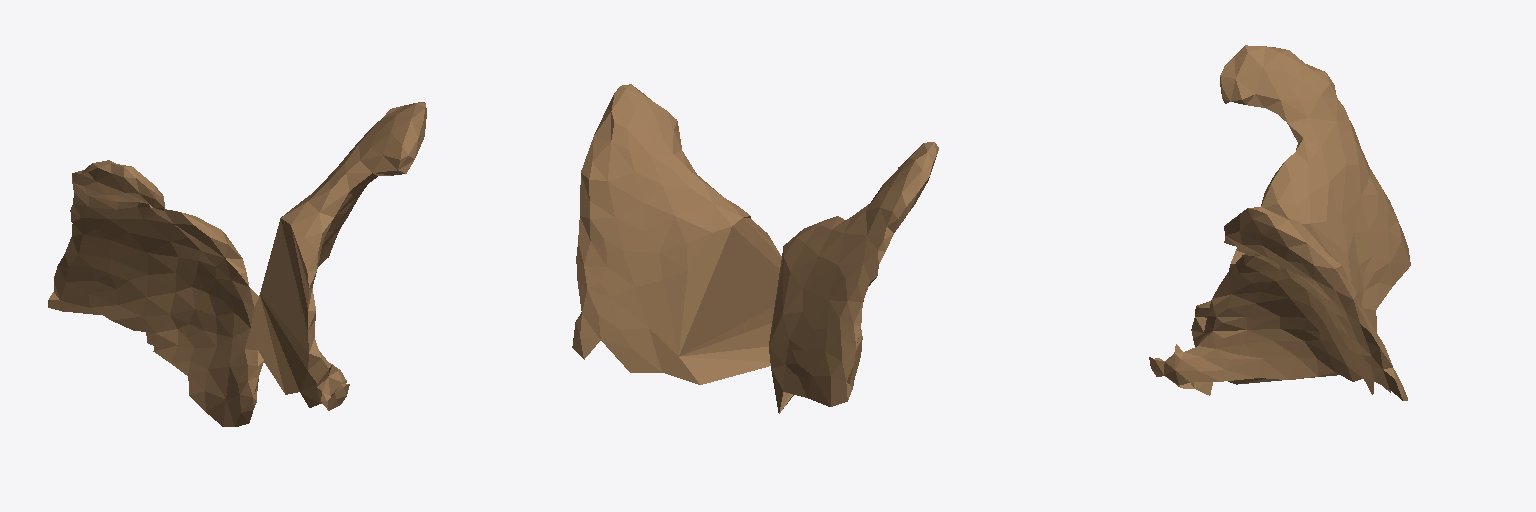
Rendered from lateral_ventricles_FH.obj.
3 views of the same model, side by side, from view 1: azimuth 30°, elevation 25°; view 2: azimuth 150°, elevation 25°; view 3: azimuth 270°, elevation 25° (orthographic).
Visible parts, largest first — view 1: Lateral_Ventricles_FH_lateral_ventricle.001; view 2: Lateral_Ventricles_FH_lateral_ventricle.001; view 3: Lateral_Ventricles_FH_lateral_ventricle.001.
Boxes of the visible parts, x1=… form: Lateral_Ventricles_FH_lateral_ventricle.001: x1=48, y1=102, x2=426, y2=426; Lateral_Ventricles_FH_lateral_ventricle.001: x1=572, y1=84, x2=938, y2=413; Lateral_Ventricles_FH_lateral_ventricle.001: x1=1149, y1=45, x2=1410, y2=400.
Size of the model in its own units: 99.31 by 79.43 by 68.4.